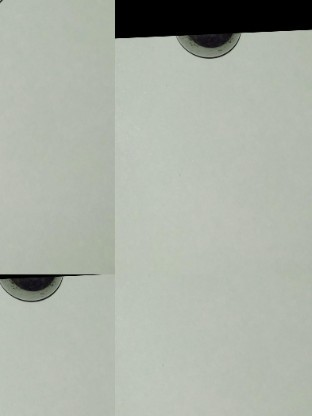ironball: (170, 28, 249, 56), (0, 274, 69, 301)
